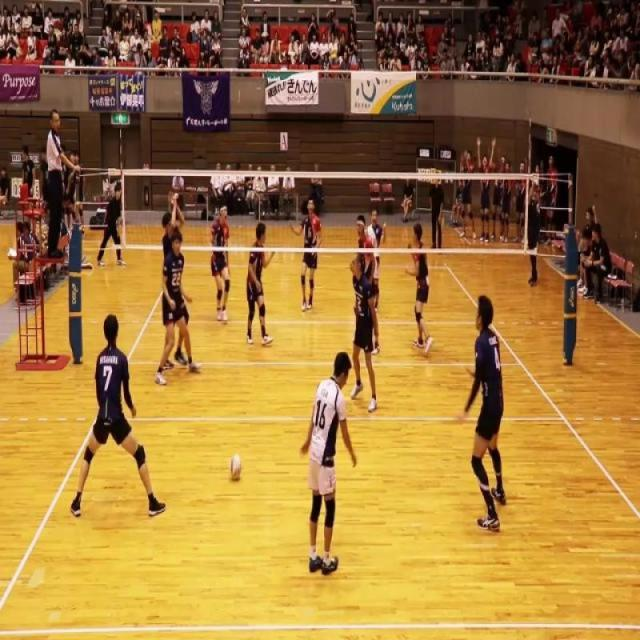volleyball: (230, 450, 242, 485)
